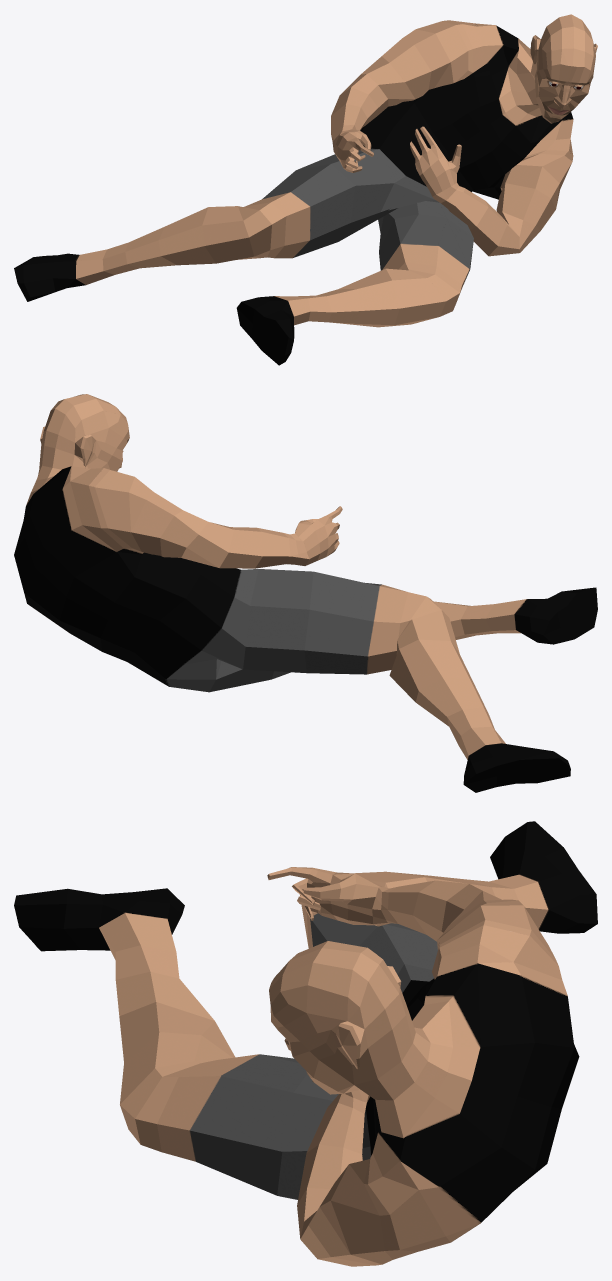
The model's file is PlayerDead(45).obj.
The picture shows the model from 3 angles, top to bottom: view 1: azimuth 30°, elevation 25°; view 2: azimuth 150°, elevation 25°; view 3: azimuth 270°, elevation 25°; orthographic projection. The views are drawn at different scales.
Visible parts, largest first — view 1: Plane002; view 2: Plane002; view 3: Plane002.
Part boxes in pixels (x1,y1,x2,y2): Plane002: (14, 14, 597, 365); Plane002: (14, 394, 597, 792); Plane002: (14, 821, 597, 1266).
Size of the model in its own units: 1571 by 633 by 890.
